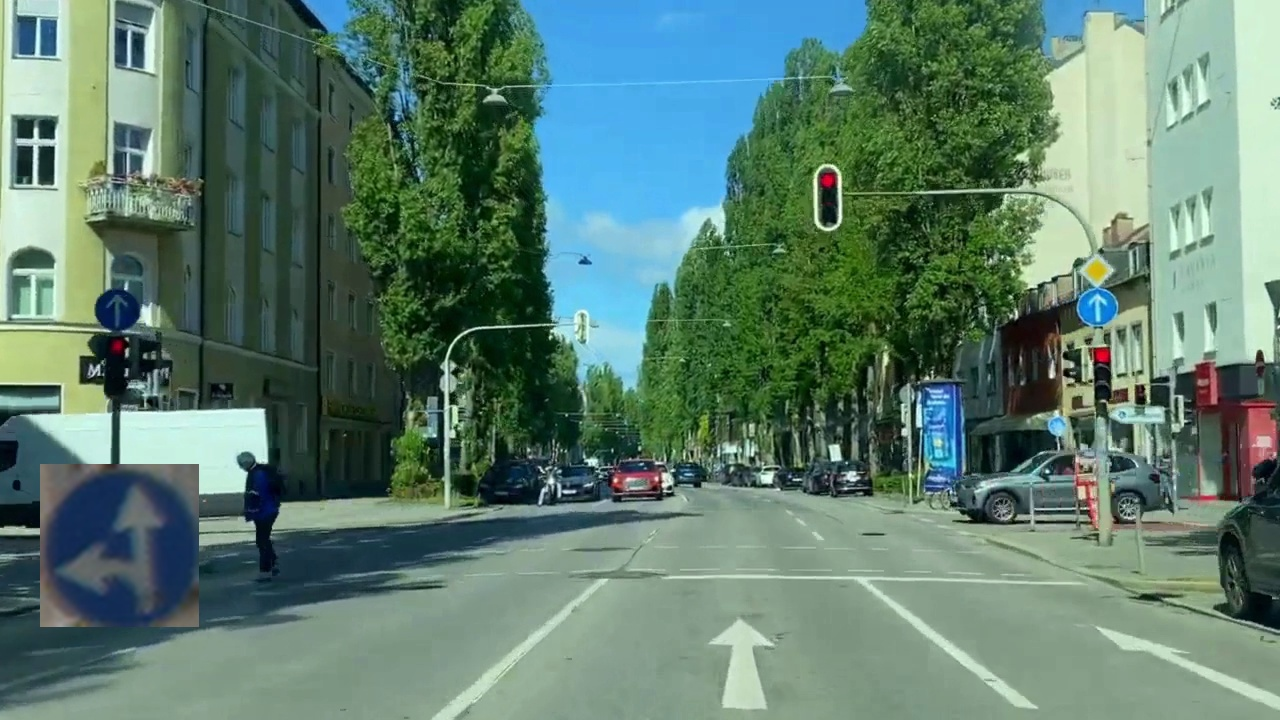Straight/left: (40, 464, 199, 627)
